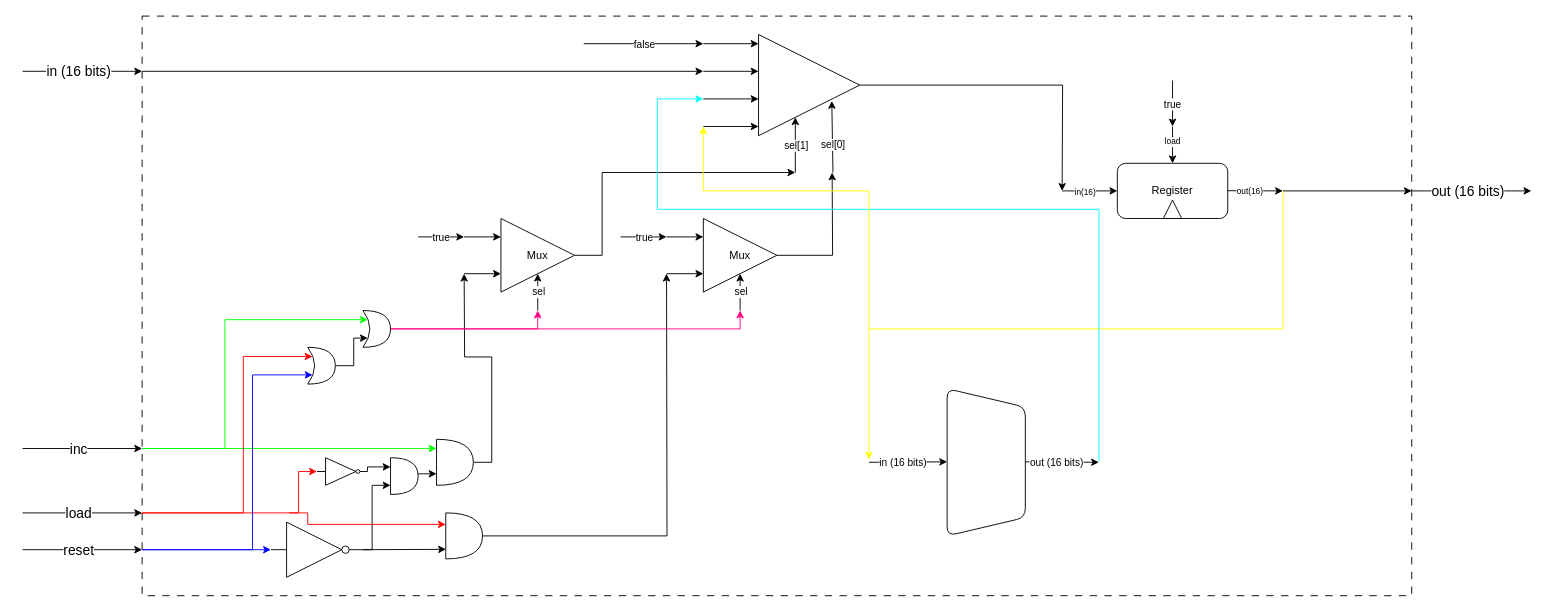
Some shapes in this 1555 by 612 pixel diagram are drawn without their labels. Here are the shapes that lost their labels. From the top down, the centre of each, then its label:
point 809,85: Mux4Way16
point 985,462: Inc16
